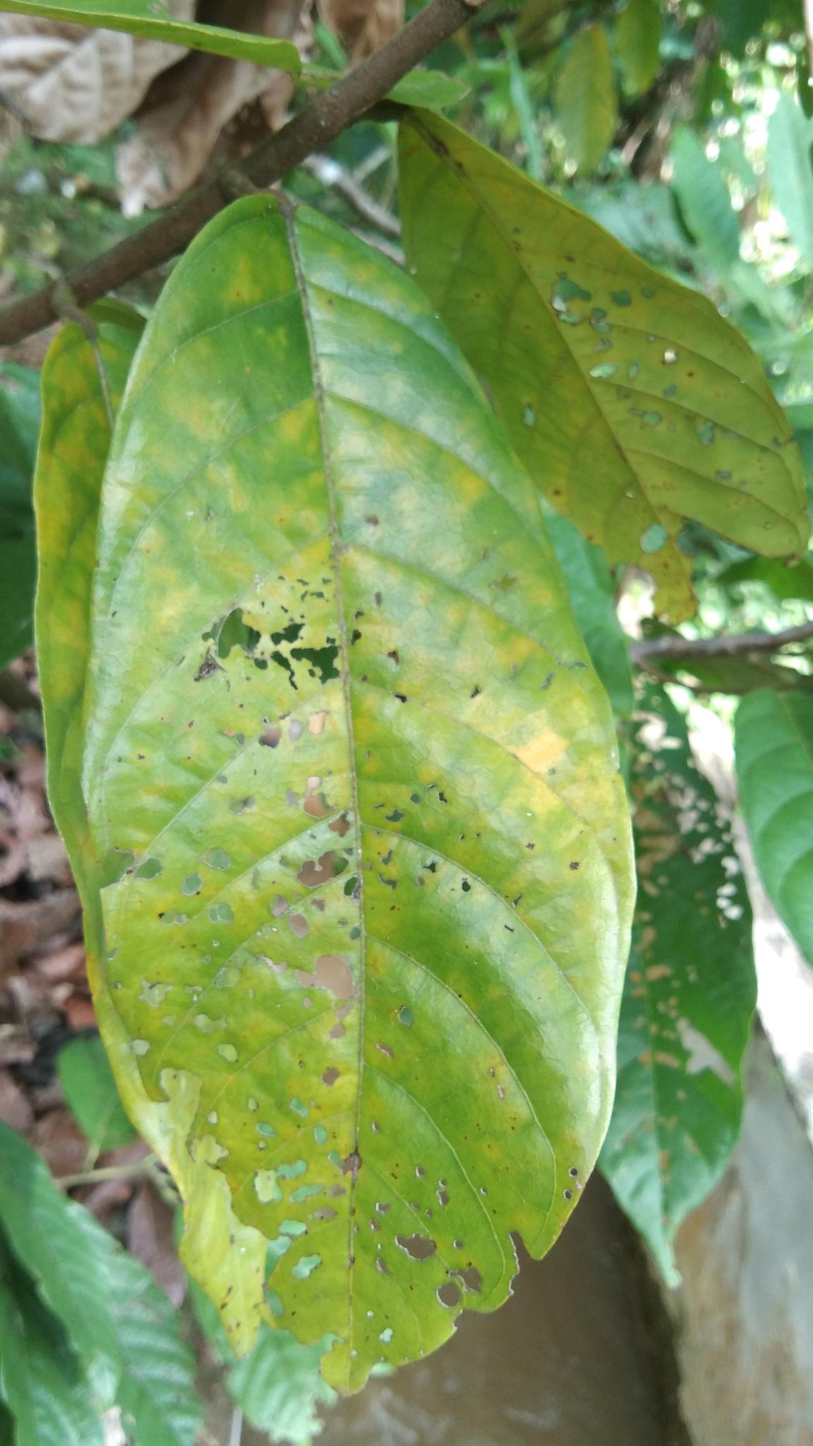Fosforo: (73, 171, 661, 1446)
